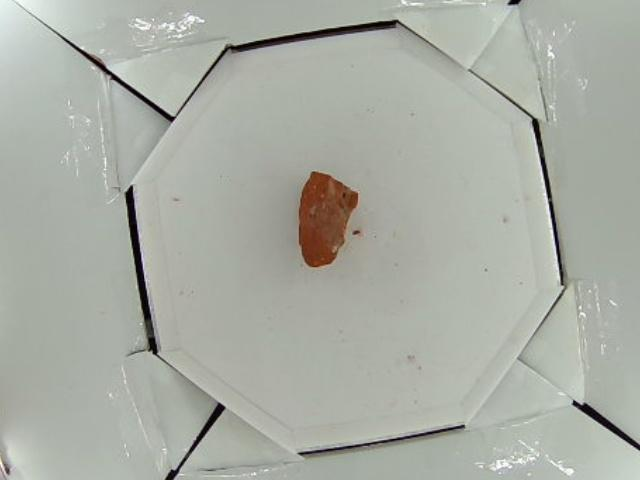Brisk: (296, 167, 358, 266)
